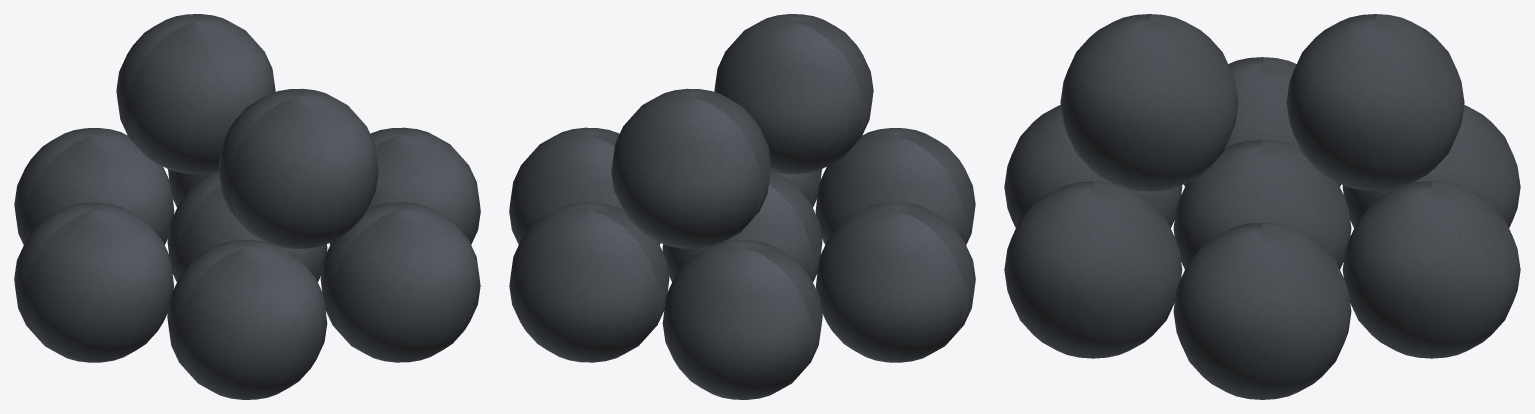
File: ShotgunLeadBuckshot.glb
3 views of the same model, side by side, from view 1: azimuth 30°, elevation 25°; view 2: azimuth 150°, elevation 25°; view 3: azimuth 270°, elevation 25° (orthographic). The views are drawn at different scales.
Visible parts, largest first — view 1: ShotgunLeadBuckshot; view 2: ShotgunLeadBuckshot; view 3: ShotgunLeadBuckshot.
Part boxes in pixels (left/top/right/bottom): ShotgunLeadBuckshot: left=14, top=14, right=480, bottom=399; ShotgunLeadBuckshot: left=509, top=14, right=975, bottom=399; ShotgunLeadBuckshot: left=1004, top=14, right=1520, bottom=399.
Bounding box in the file's own units: 0.023 × 0.0128 × 0.0209.
1 material, 1 textured.
